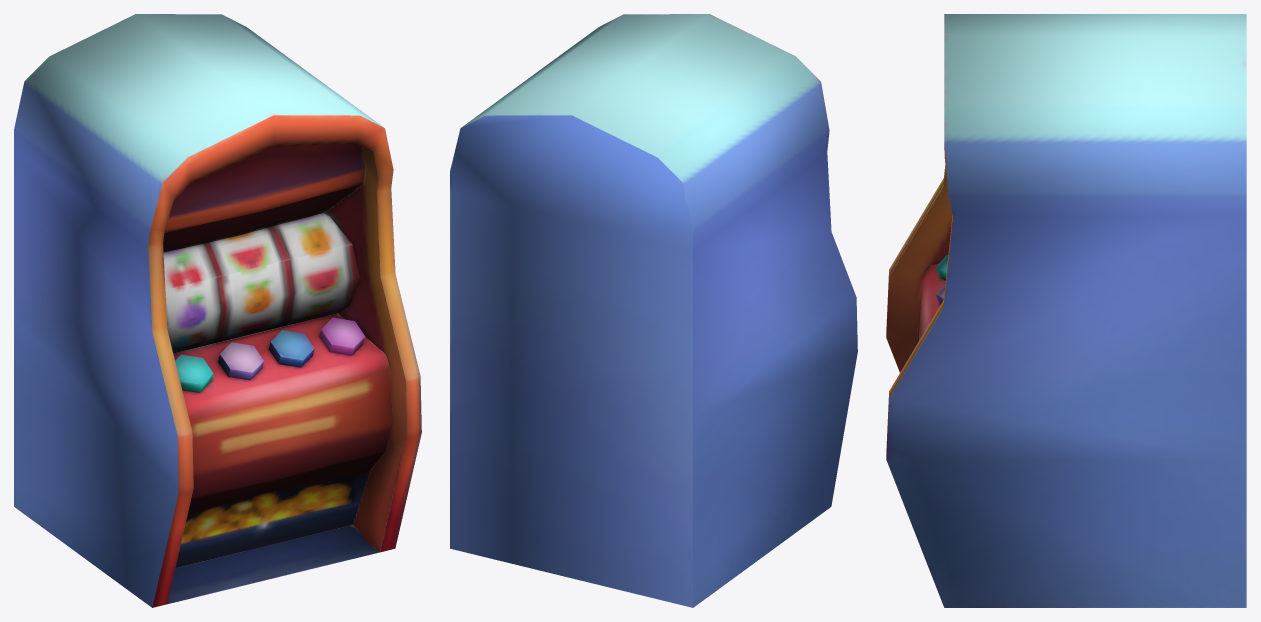
Rendered from slotmachine.glb.
3 renders of one model, left to right at view 1: azimuth 30°, elevation 25°; view 2: azimuth 150°, elevation 25°; view 3: azimuth 270°, elevation 25°, orthographic. The views are drawn at different scales.
Visible parts, largest first — view 1: MachineE; view 2: MachineE; view 3: MachineE.
Boxes of the visible parts, <box> form: MachineE: <box>14,14,421,607</box>; MachineE: <box>450,14,857,607</box>; MachineE: <box>886,14,1246,607</box>.
Bounding box in the file's own units: 1.15 × 2.1 × 1.35.
Materials: 1 (1 with a texture image).
